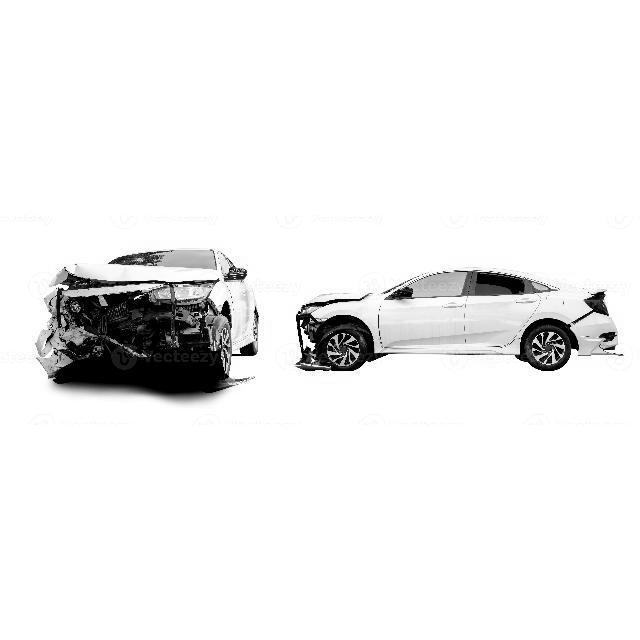bonnet-dent: (61, 267, 216, 290), (307, 292, 372, 309)
front-bumper-dent: (47, 304, 212, 379), (297, 317, 329, 369)
quaterpanel-dent: (567, 309, 593, 332)
